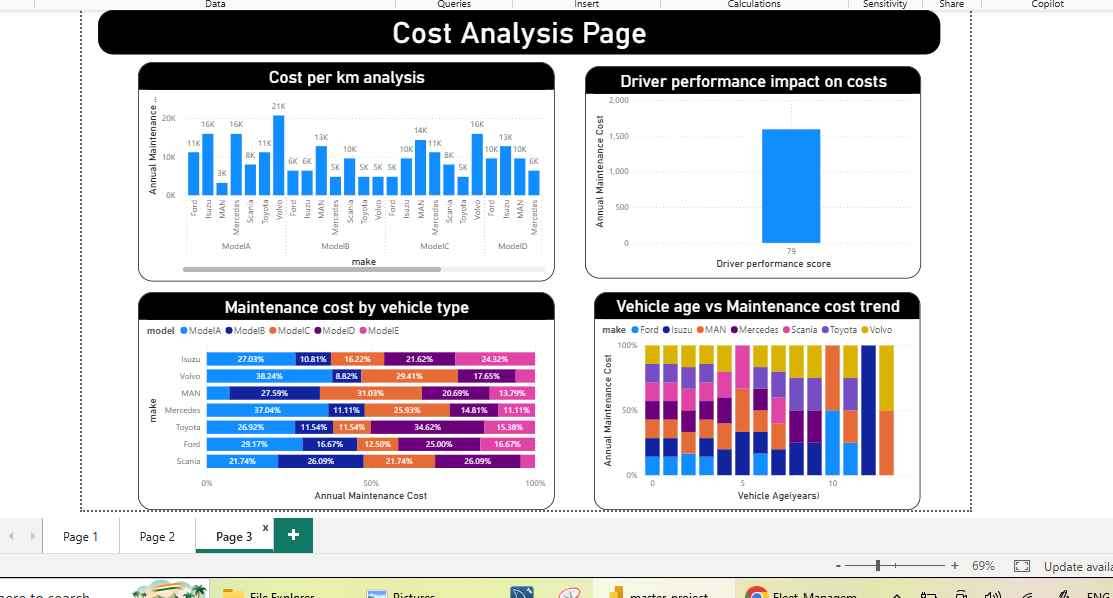

What the dashboard file says about the page in this screenshot:
{"tool":"powerbi","page":{"name":"Page 3","canvas":[1280,720],"ordinal":2},"visuals":[{"type":"columnChart","title":"Cost per km analysis","fields":{"Category":["fleet_project_datasets_fixed_new.model","fleet_project_datasets_fixed_new.make"],"Y":["Sum(fleet_project_datasets_fixed_new.annual_maintenance_cost)"]},"box":[80.6,75.6,599.7,315.8],"z":0},{"type":"hundredPercentStackedBarChart","title":"Maintenance cost by vehicle type","fields":{"Category":["fleet_project_datasets_fixed_new.make"],"Y":["Sum(fleet_project_datasets_fixed_new.annual_maintenance_cost)"],"Series":["fleet_project_datasets_fixed_new.model"]},"box":[80.6,406.5,599.7,314.1],"z":1000},{"type":"lineClusteredColumnComboChart","title":"Driver performance impact on costs","fields":{"Category":["fleet_project_datasets_fixed_new.driver_performance_score"],"Y":["Avg(fleet_project_datasets_fixed_new.annual_maintenance_cost)"]},"box":[724,80.6,483.8,305.7],"z":2000},{"type":"lineClusteredColumnComboChart","title":"Vehicle age vs Maintenance cost trend","fields":{"Category":["fleet_project_datasets_fixed_new.vehicle_age_year"],"Y":["Avg(fleet_project_datasets_fixed_new.annual_maintenance_cost)"],"Series":["fleet_project_datasets_fixed_new.make"],"Y2":["Sum(fleet_project_datasets_fixed_new.annual_maintenance_cost)1"]},"box":[737.4,406.5,470.3,314.1],"z":3000},{"type":"textbox","title":"Cost Analysis Page","box":[23.5,0,1212.8,63.8],"z":3001}]}

Visuals, with their boxes on the page's 1280x720 design canvas (x1, y1, x2, y2). These are canvas units, not pixel positions in the 1113x598 screenshot, which may show the page scaled, cropped or inside an application window:
"Cost per km analysis" columnChart: Rect(81, 76, 680, 391)
"Maintenance cost by vehicle type" hundredPercentStackedBarChart: Rect(81, 406, 680, 721)
"Driver performance impact on costs" lineClusteredColumnComboChart: Rect(724, 81, 1208, 386)
"Vehicle age vs Maintenance cost trend" lineClusteredColumnComboChart: Rect(737, 406, 1208, 721)
"Cost Analysis Page" textbox: Rect(24, 0, 1236, 64)
